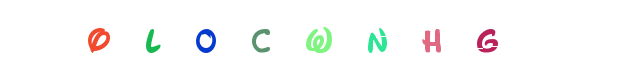0: (168, 0, 248, 80)
C: (268, 0, 348, 80)
G: (447, 0, 527, 80)
H: (350, 0, 430, 80)
L: (166, 0, 246, 80)
N: (337, 0, 417, 80)
O: (58, 0, 138, 80)
W: (270, 0, 350, 80)
